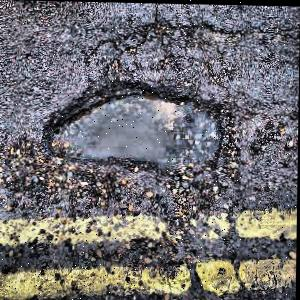pothole: (40, 75, 239, 184)
